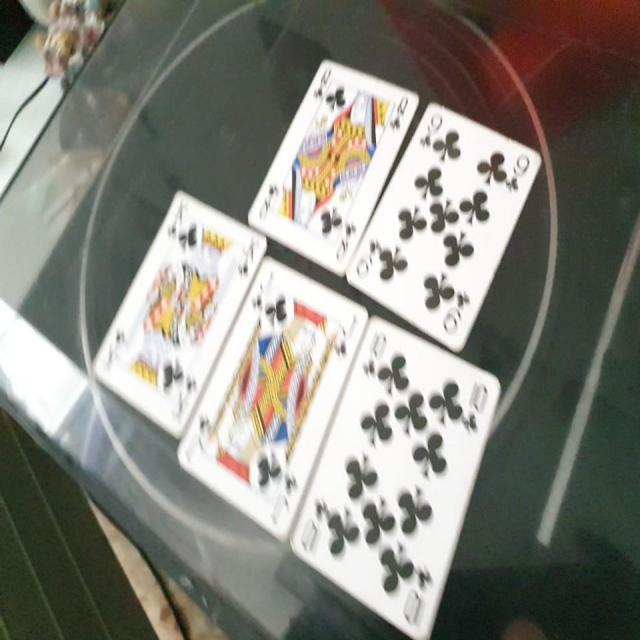10 Trefoils: (287, 315, 501, 640)
9 Trefoils: (348, 100, 544, 347)
J Trefoils: (175, 256, 370, 541)
K Trefoils: (91, 190, 266, 440)
Q Trefoils: (247, 59, 420, 276)
